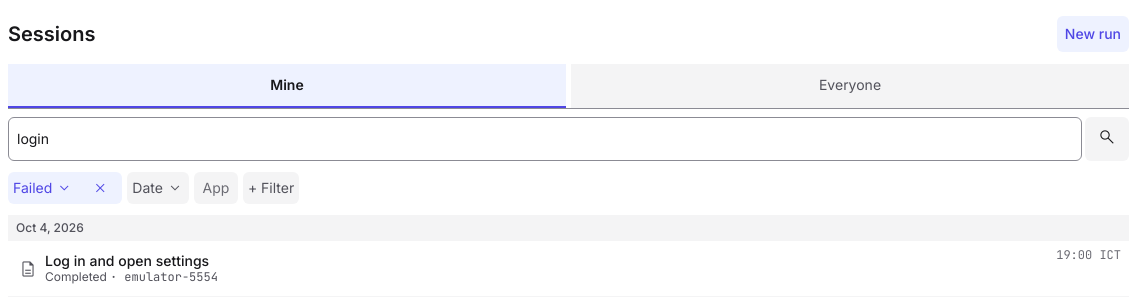
Scenario: RunLibraryComponent › rows › renders removable filters with 44px hit boxes and keeps search when a chip is cleared
This screenshot has width=1146, height=301.
Step 1. Click the button named "Clear Status filter" → [100, 188], box x1=78 y1=166 x2=122 y2=210
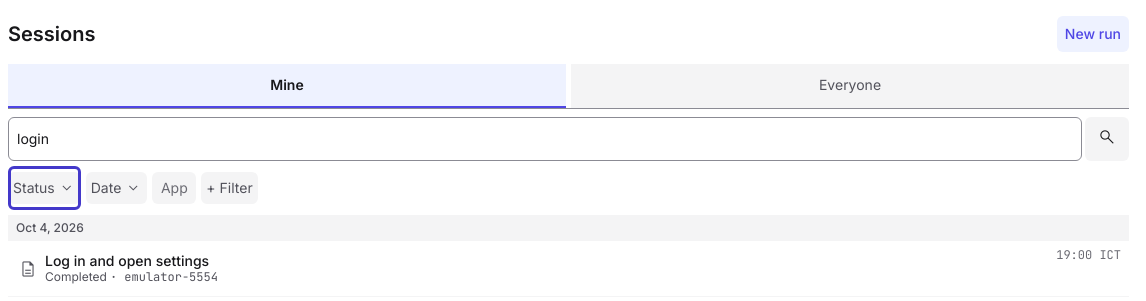
Check: the button "Status" is shown, box x1=8 y1=166 x2=81 y2=210
